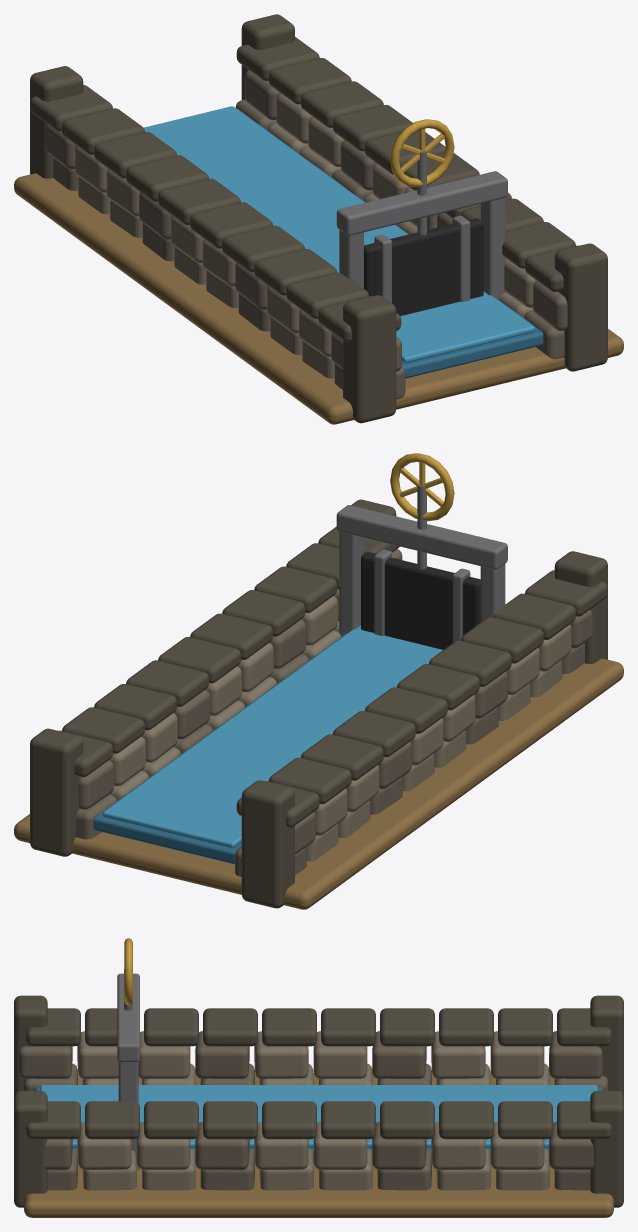
File: irrigation-canal.glb
3 renders of one model, top to bottom at view 1: azimuth 30°, elevation 25°; view 2: azimuth 150°, elevation 25°; view 3: azimuth 270°, elevation 25°, orthographic. The views are drawn at different scales.
Parts seen in each view (by area): view 1: irrigation-canal-farm-stone-dark, irrigation-canal-farm-water, irrigation-canal-farm-dirt, irrigation-canal-farm-stone, irrigation-canal-farm-rock, irrigation-canal-farm-metal, irrigation-canal-farm-window, irrigation-canal-farm-water-deep, irrigation-canal-farm-gold; view 2: irrigation-canal-farm-stone-dark, irrigation-canal-farm-water, irrigation-canal-farm-dirt, irrigation-canal-farm-stone, irrigation-canal-farm-rock, irrigation-canal-farm-metal, irrigation-canal-farm-window, irrigation-canal-farm-water-deep, irrigation-canal-farm-gold; view 3: irrigation-canal-farm-stone-dark, irrigation-canal-farm-stone, irrigation-canal-farm-rock, irrigation-canal-farm-dirt, irrigation-canal-farm-water, irrigation-canal-farm-metal, irrigation-canal-farm-gold.
Boxes of the visible parts, bbox=[...] form: irrigation-canal-farm-stone-dark: bbox=[30, 14, 607, 423]; irrigation-canal-farm-water: bbox=[143, 106, 534, 362]; irrigation-canal-farm-dirt: bbox=[14, 173, 623, 424]; irrigation-canal-farm-stone: bbox=[75, 93, 536, 378]; irrigation-canal-farm-rock: bbox=[46, 70, 567, 399]; irrigation-canal-farm-metal: bbox=[336, 151, 507, 303]; irrigation-canal-farm-window: bbox=[364, 218, 483, 315]; irrigation-canal-farm-water-deep: bbox=[236, 108, 543, 378]; irrigation-canal-farm-gold: bbox=[390, 119, 454, 187]; irrigation-canal-farm-stone-dark: bbox=[30, 499, 607, 908]; irrigation-canal-farm-water: bbox=[103, 625, 442, 848]; irrigation-canal-farm-dirt: bbox=[14, 658, 623, 909]; irrigation-canal-farm-stone: bbox=[109, 589, 571, 861]; irrigation-canal-farm-rock: bbox=[76, 549, 592, 876]; irrigation-canal-farm-metal: bbox=[336, 484, 507, 642]; irrigation-canal-farm-window: bbox=[361, 552, 480, 649]; irrigation-canal-farm-water-deep: bbox=[93, 633, 346, 864]; irrigation-canal-farm-gold: bbox=[390, 453, 454, 521]; irrigation-canal-farm-stone-dark: bbox=[14, 995, 623, 1207]; irrigation-canal-farm-stone: bbox=[77, 1031, 549, 1190]; irrigation-canal-farm-rock: bbox=[18, 1031, 608, 1190]; irrigation-canal-farm-dirt: bbox=[24, 1073, 613, 1217]; irrigation-canal-farm-water: bbox=[40, 1085, 597, 1147]; irrigation-canal-farm-metal: bbox=[117, 969, 139, 1170]; irrigation-canal-farm-gold: bbox=[124, 938, 132, 1005].
Bounding box in the file's own units: 2.35 × 1.75 × 4.55.
